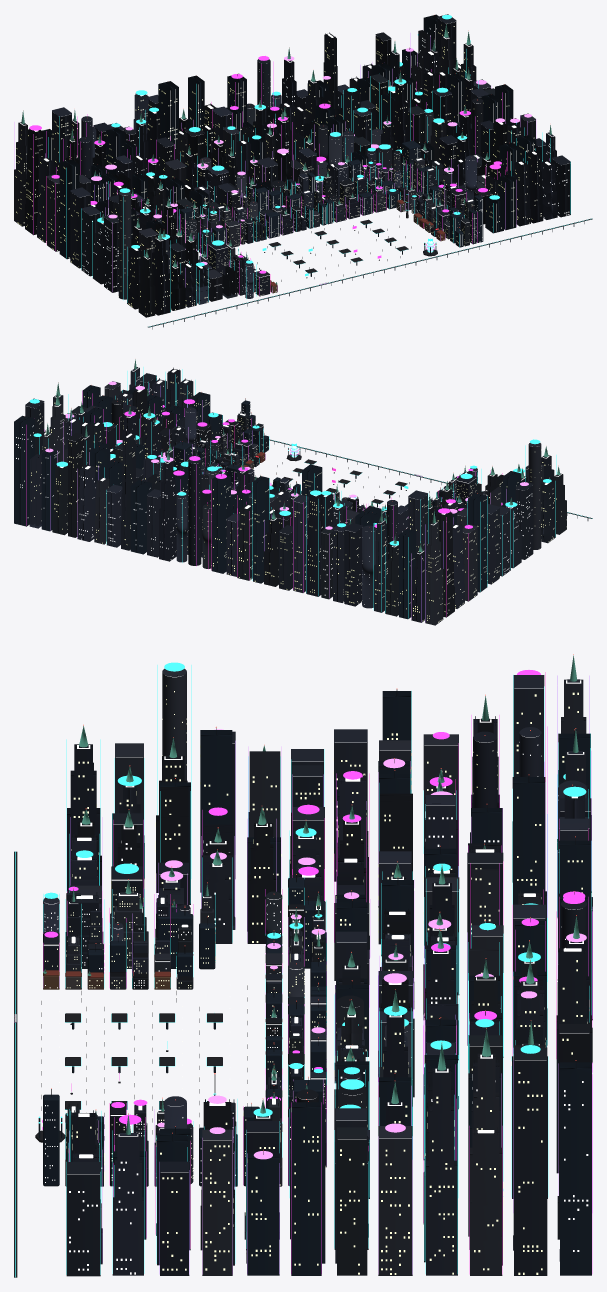
File: by_neon.glb
The picture shows the model from 3 angles, top to bottom: view 1: azimuth 30°, elevation 25°; view 2: azimuth 150°, elevation 25°; view 3: azimuth 270°, elevation 25°; orthographic projection. The views are drawn at different scales.
Visible parts, largest first — view 1: Skyline_net, Bykerne_net, Magnetbanen_net, Platforme_net; view 2: Skyline_net, Bykerne_net, Platforme_net, Magnetbanen_net; view 3: Skyline_net, Bykerne_net, Platforme_net, Magnetbanen_net.
Part boxes in pixels (left/top/right/bottom): Skyline_net: left=14, top=14, right=570, bottom=317; Bykerne_net: left=178, top=140, right=483, bottom=298; Magnetbanen_net: left=148, top=218, right=592, bottom=329; Platforme_net: left=268, top=219, right=408, bottom=276; Skyline_net: left=14, top=359, right=566, bottom=625; Bykerne_net: left=173, top=398, right=481, bottom=516; Platforme_net: left=280, top=459, right=407, bottom=507; Magnetbanen_net: left=269, top=439, right=592, bottom=520; Skyline_net: left=66, top=654, right=592, bottom=1276; Bykerne_net: left=43, top=863, right=326, bottom=1186; Platforme_net: left=65, top=1013, right=222, bottom=1109; Magnetbanen_net: left=14, top=851, right=17, bottom=1277.
Bounding box in the file's own units: 190 × 48.17 × 109.
